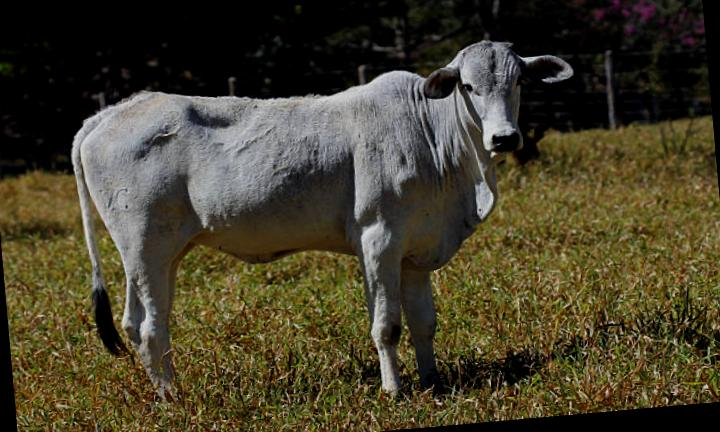Brahman: (71, 41, 572, 389)
